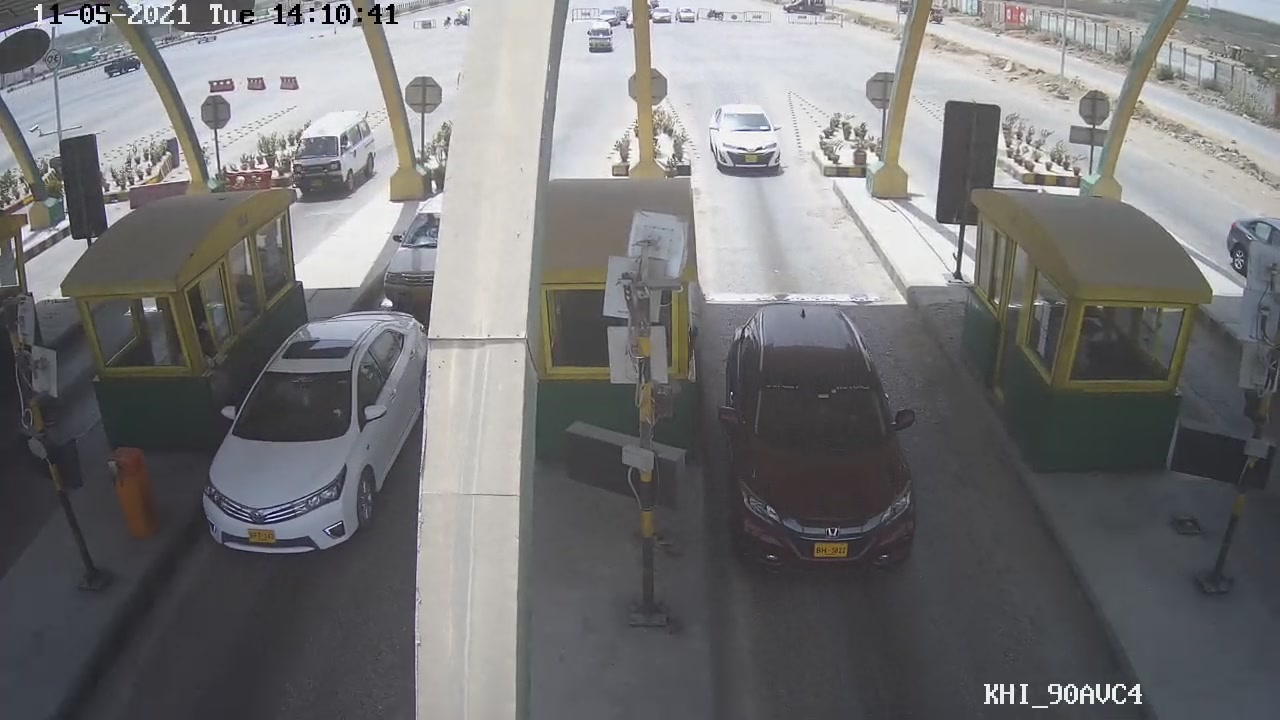F1: (711, 311, 931, 577)
